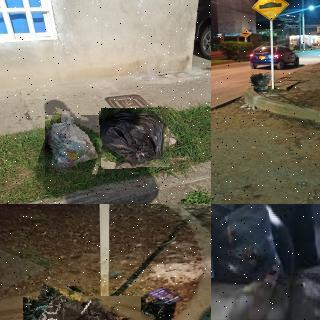Garbage: (213, 204, 280, 275), (41, 111, 109, 178), (100, 107, 170, 168), (16, 288, 149, 320), (271, 204, 318, 261), (250, 70, 272, 87)
